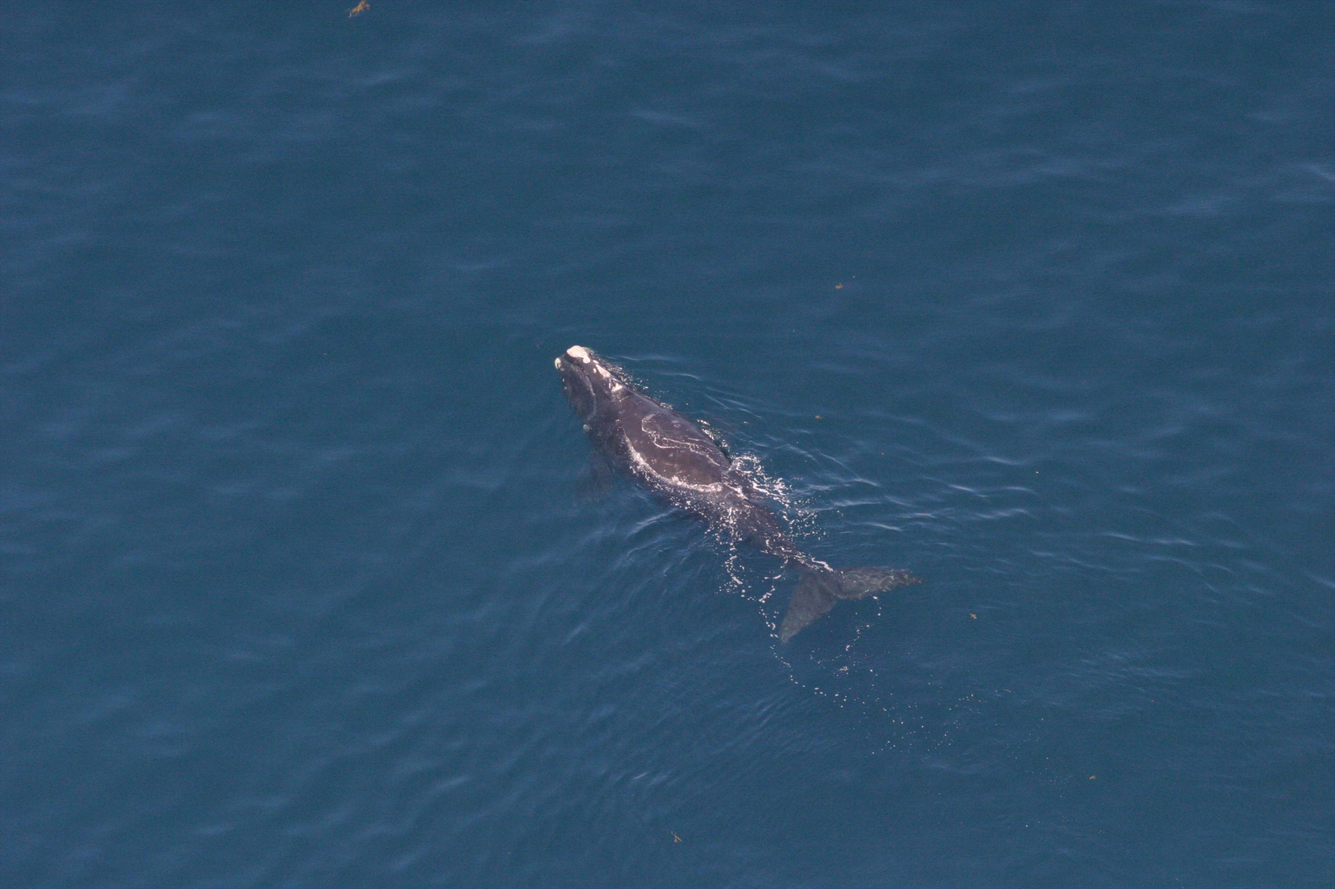whale: (546, 341, 927, 649)
